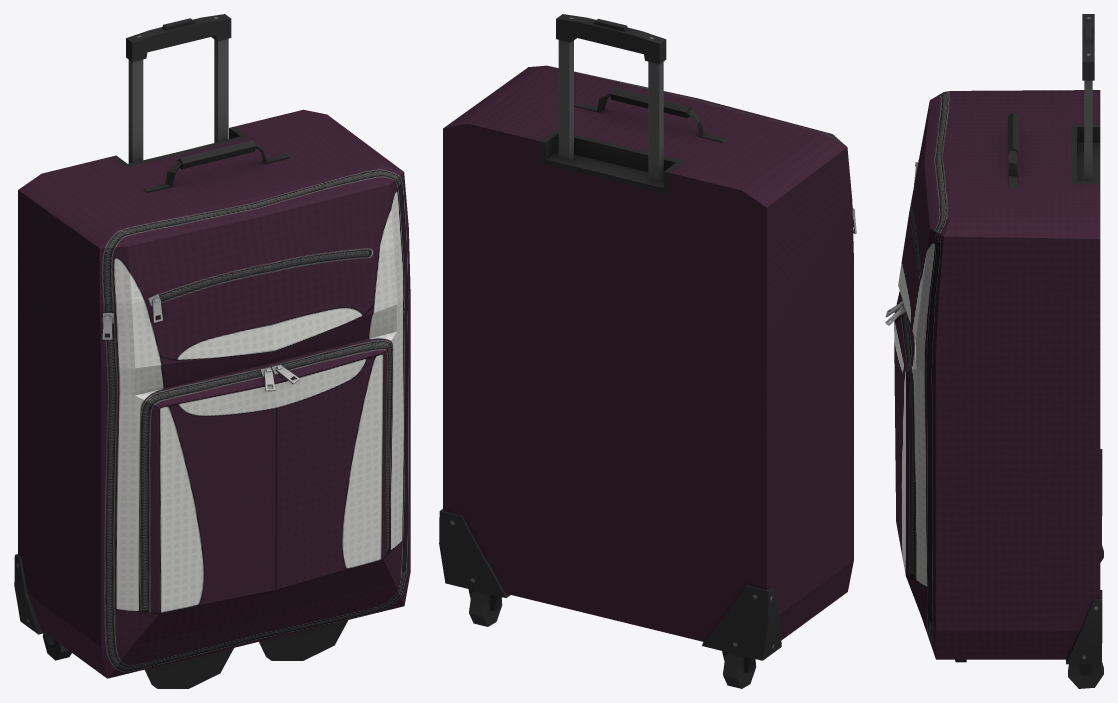
File: airport-luggage-strapped-red.glb
3 renders of one model, left to right at view 1: azimuth 30°, elevation 25°; view 2: azimuth 150°, elevation 25°; view 3: azimuth 270°, elevation 25°, orthographic. The views are drawn at different scales.
Parts seen in each view (by area): view 1: Luggage_mesh; view 2: Luggage_mesh; view 3: Luggage_mesh.
Part boxes in pixels (x1,y1,x2,y2): Luggage_mesh: [14, 14, 410, 688]; Luggage_mesh: [439, 14, 856, 688]; Luggage_mesh: [885, 14, 1103, 688].
Size of the model in its own units: 3.45 by 6.32 by 2.11.
Materials: 1 (1 with a texture image).
